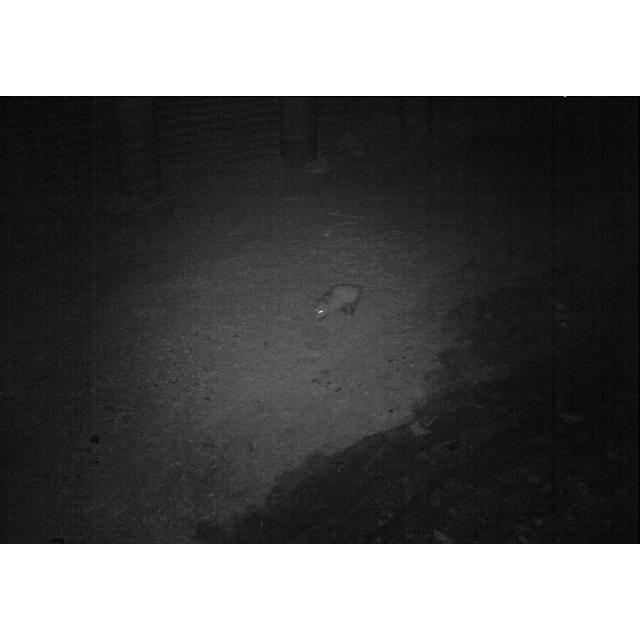animals: (312, 280, 366, 324)
